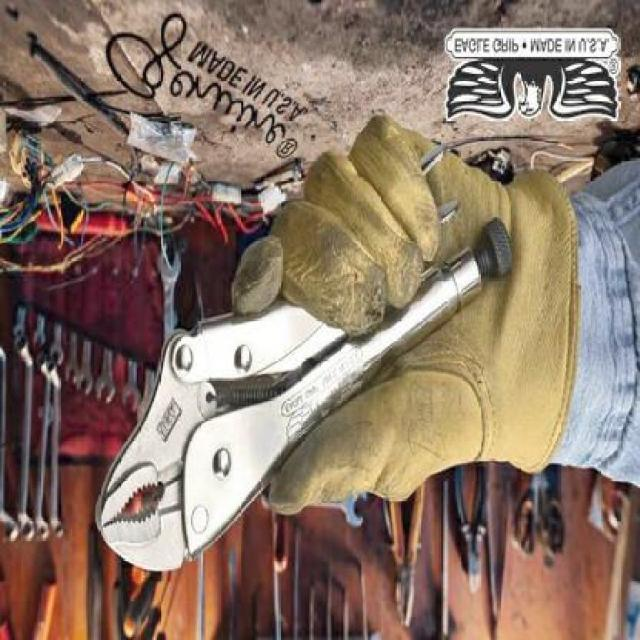pliers: (99, 318, 267, 578)
